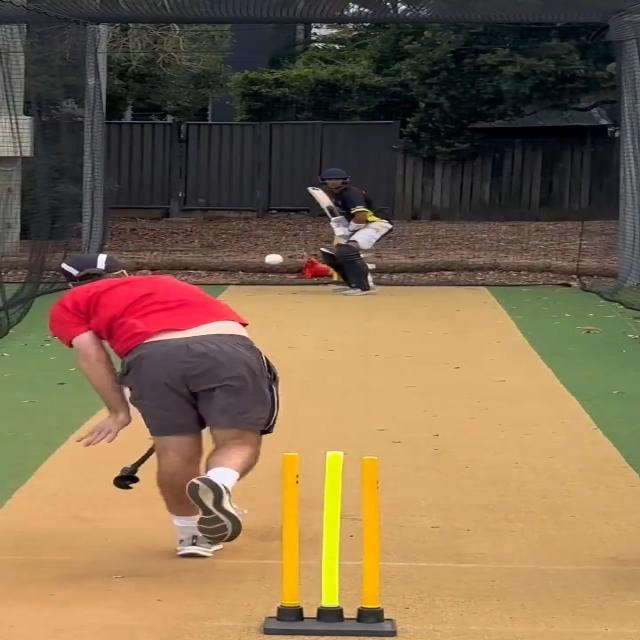ball: (263, 251, 287, 266)
stump: (272, 451, 392, 640)
